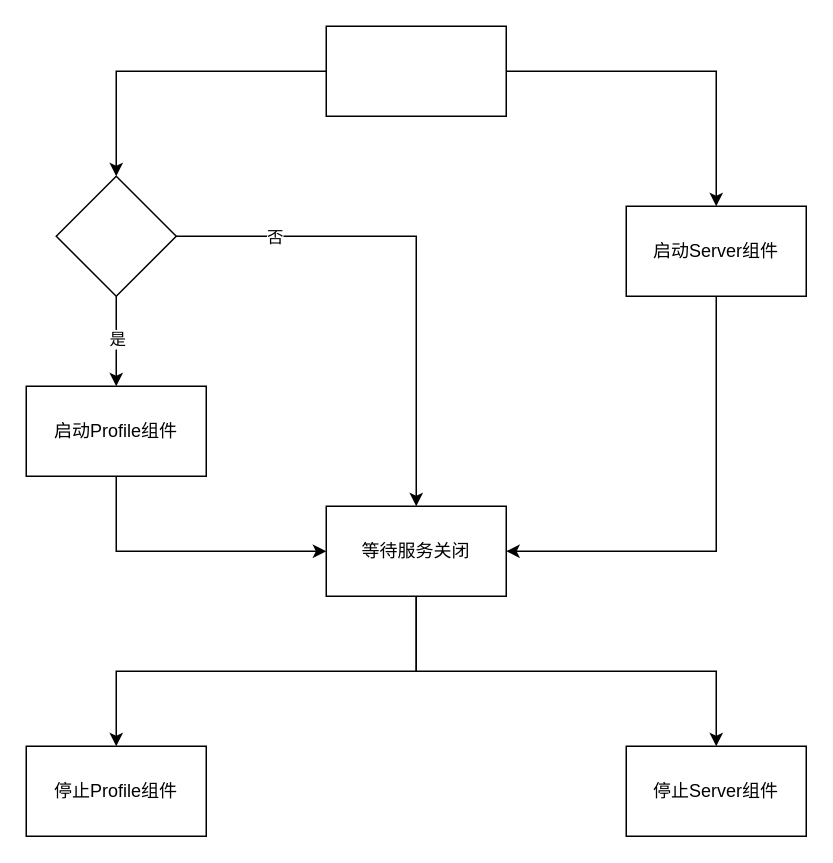
The diagram is 833 pixels wide and 863 high, and some of its shapes have lost their labels. Each missing label, with the box of its shape:
启动服务: (325, 25, 506, 116)
是否定义了Profile组件: (55, 175, 176, 296)
